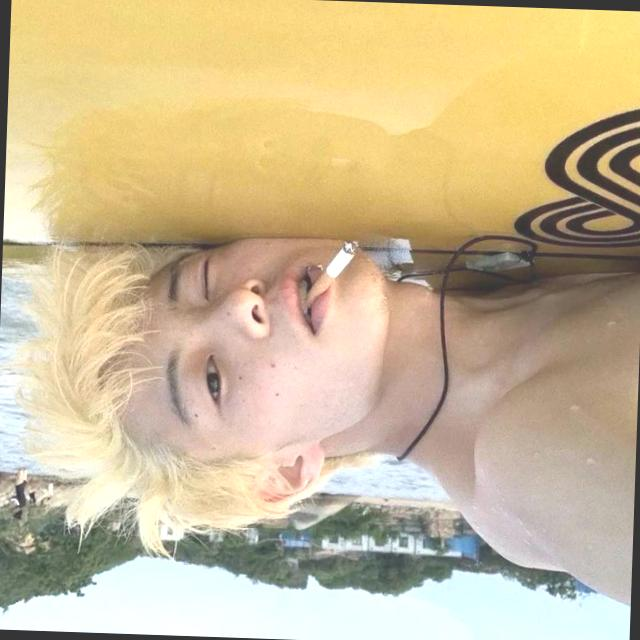cigarette: (297, 223, 373, 326)
